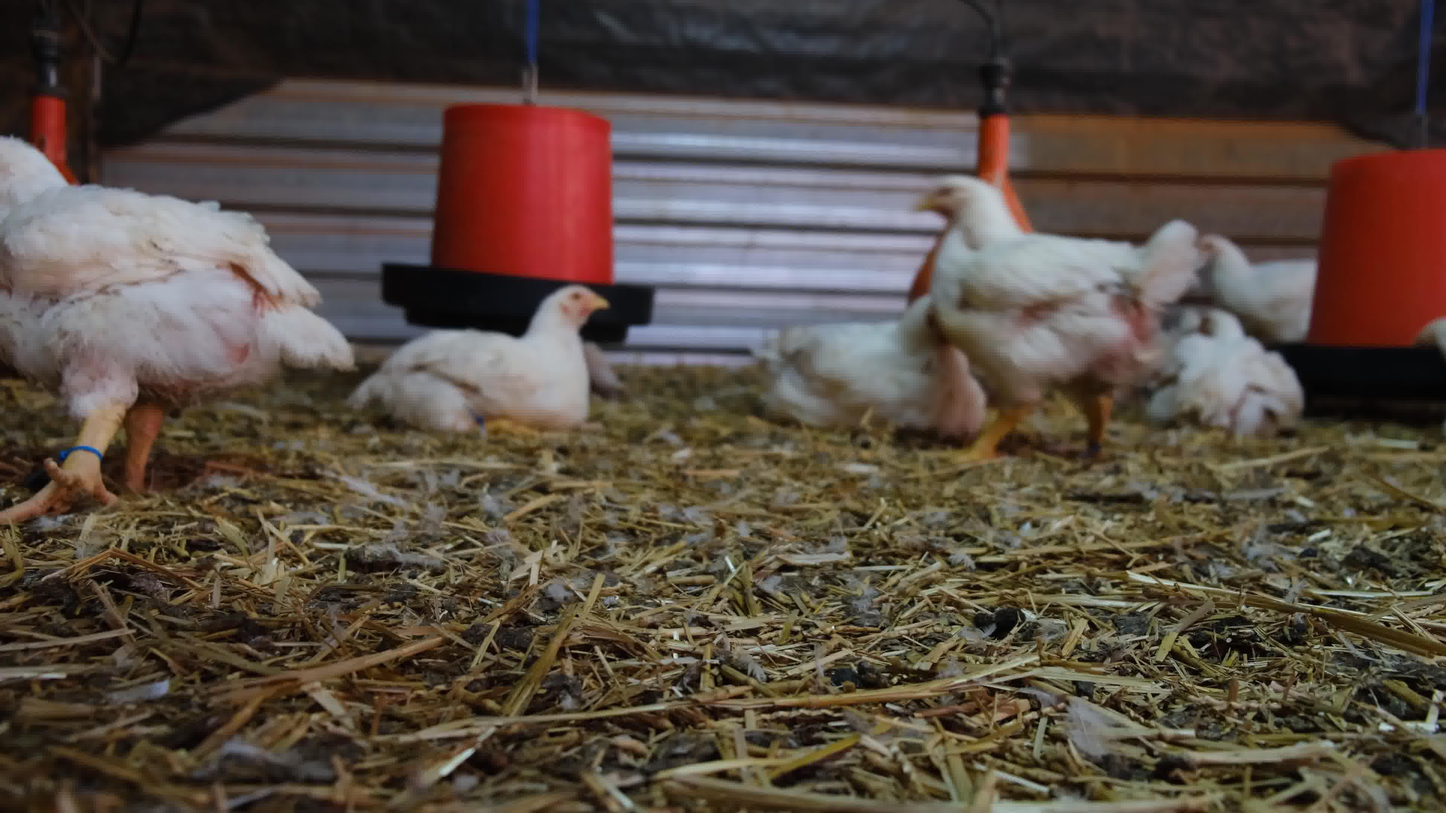AbNormal: (341, 281, 612, 429), (737, 294, 991, 431), (1147, 307, 1307, 428)
Normal: (0, 128, 355, 523), (915, 177, 1203, 476), (1194, 232, 1320, 339)
